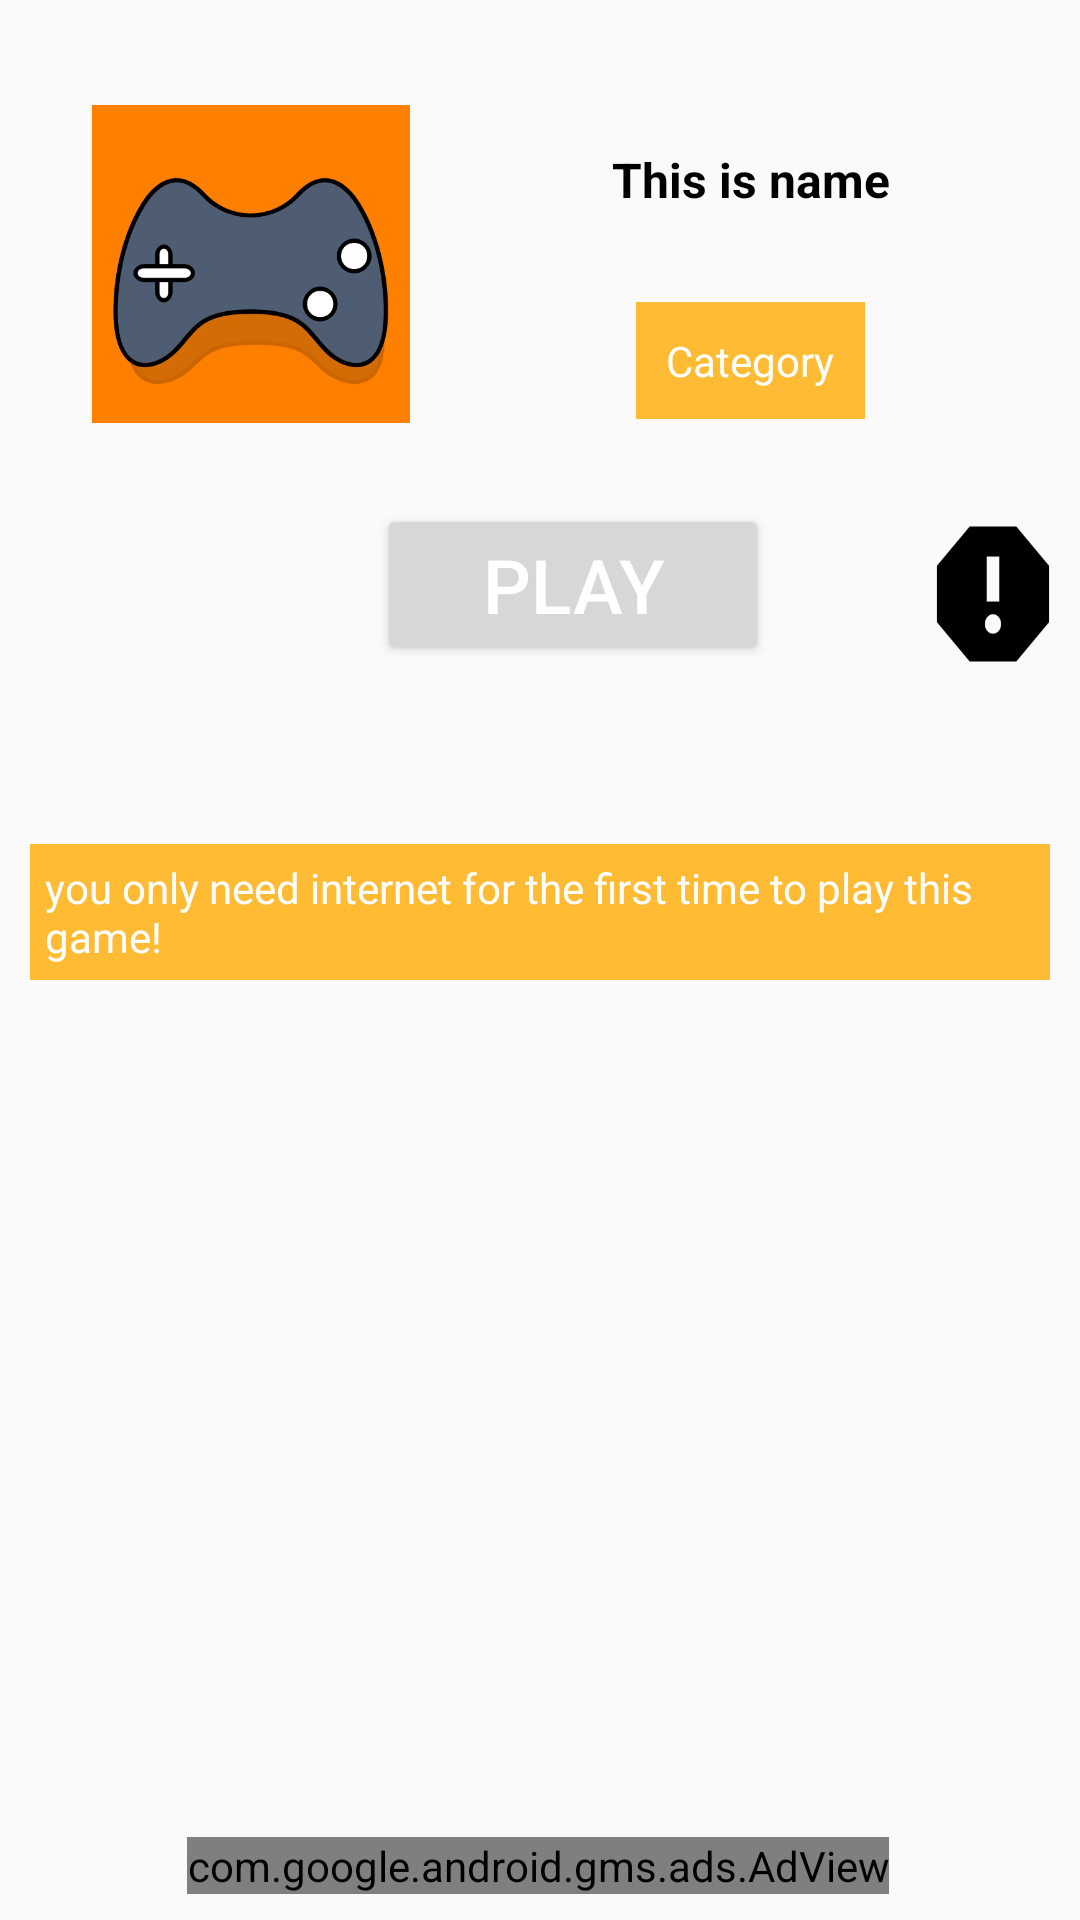

Where icons sit on this 1080x1920 app screen, as (x1, y1, x2, y2):
gamers hub: (92, 105, 410, 423)
report: (937, 526, 1049, 662)
